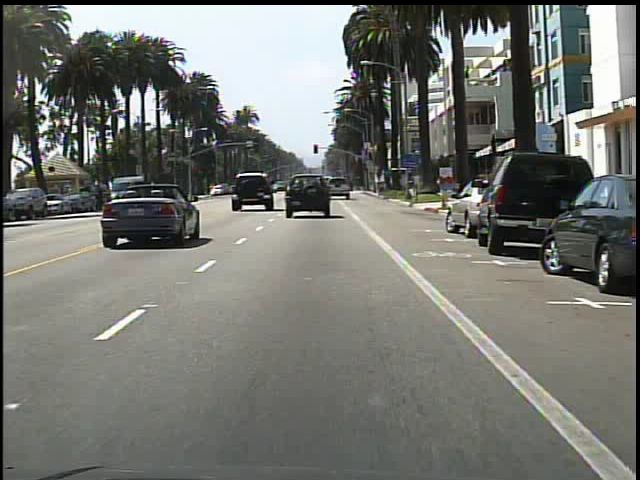person: (89, 178, 109, 214)
